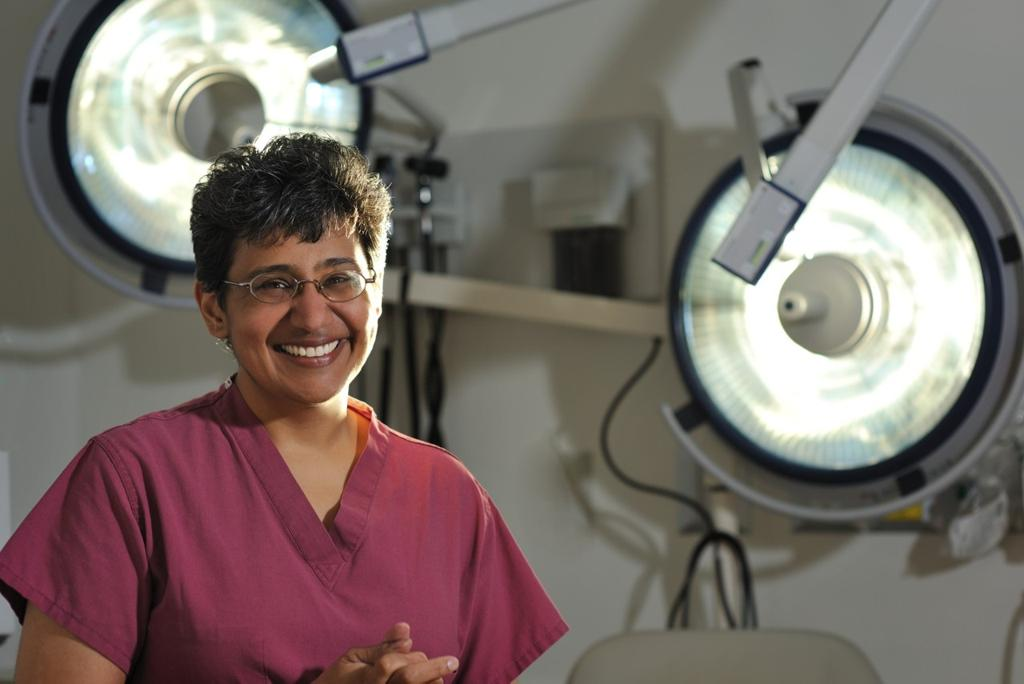face: (232, 230, 374, 404)
